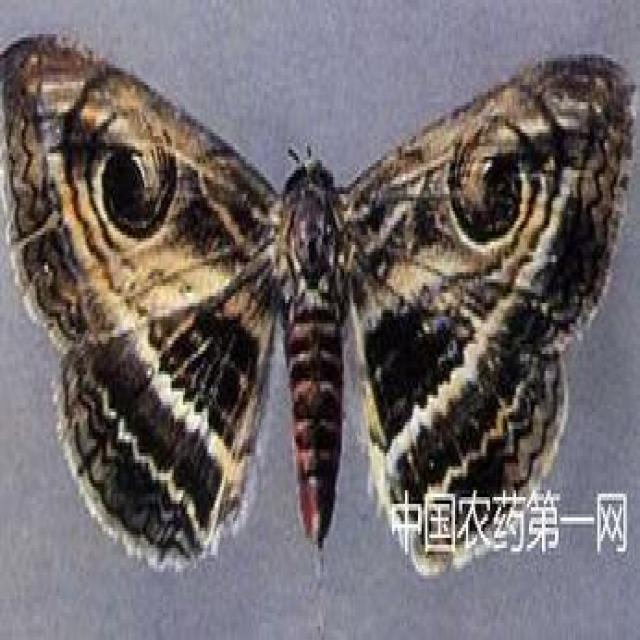BeetArmyWorm-Adult-: (2, 21, 634, 588)
